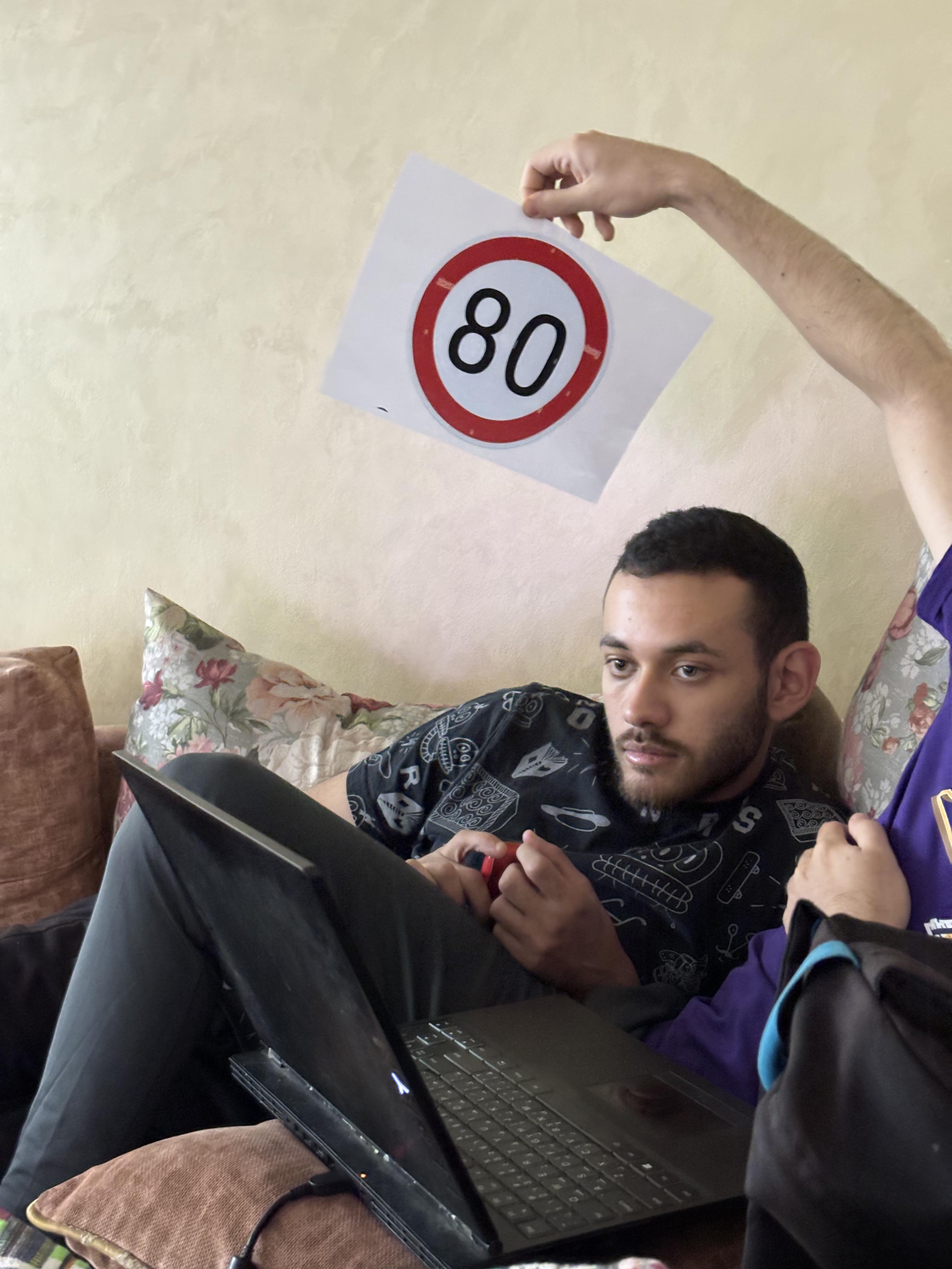80-Speed: (410, 227, 614, 455)
